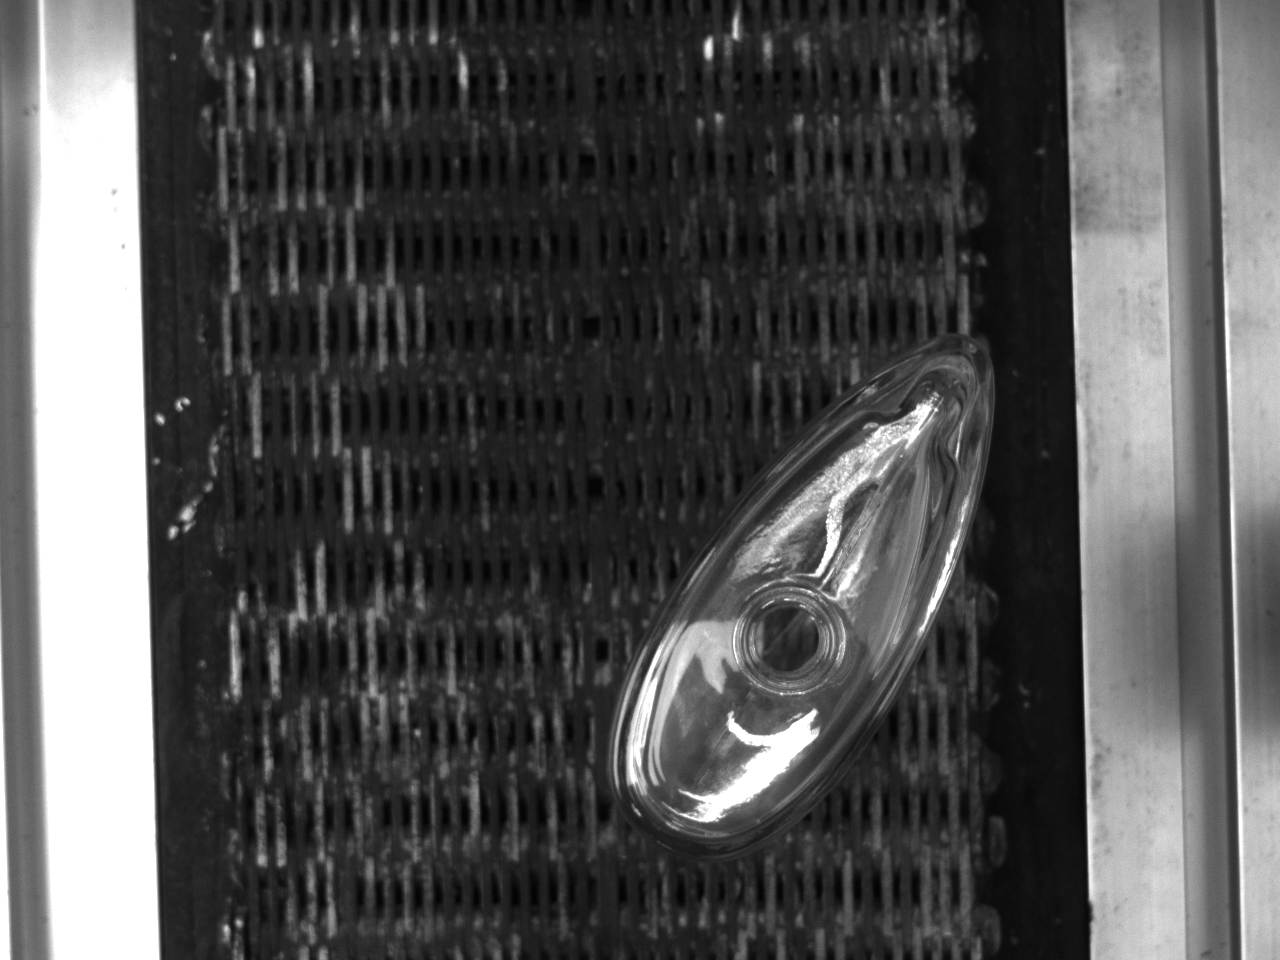bottleneck: (734, 584, 847, 693)
